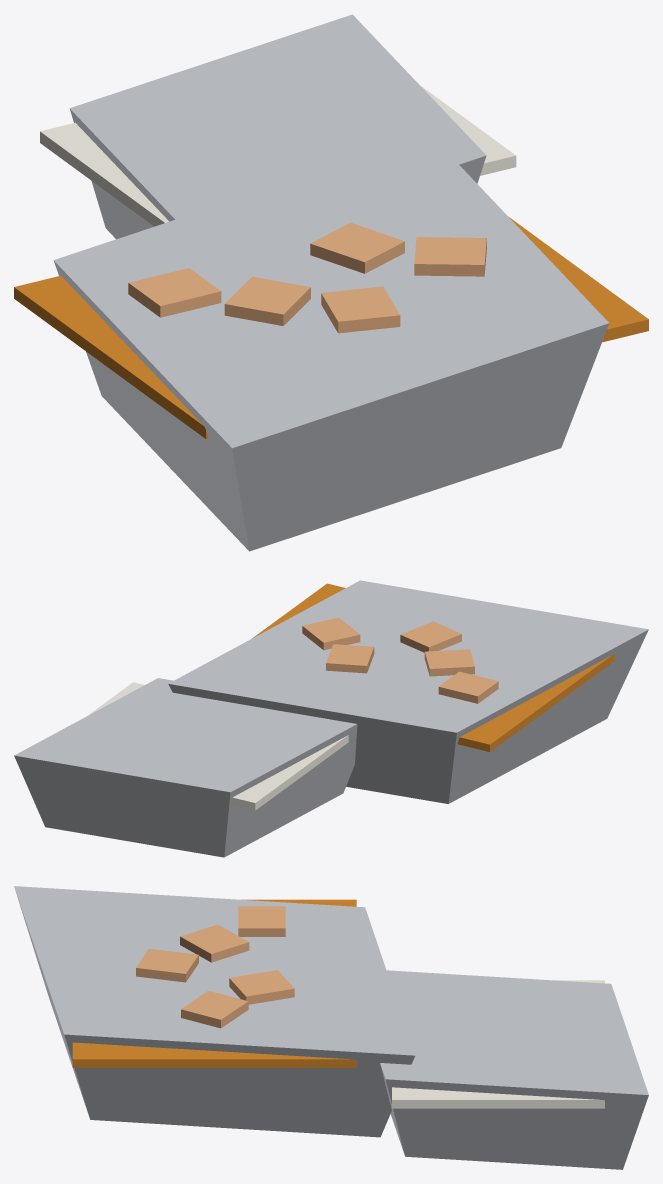
The model's file is curry.glb.
The picture shows the model from 3 angles, top to bottom: view 1: azimuth 30°, elevation 25°; view 2: azimuth 150°, elevation 25°; view 3: azimuth 270°, elevation 25°; orthographic projection. The views are drawn at different scales.
Parts seen in each view (by area): view 1: curry; view 2: curry; view 3: curry.
Part boxes in pixels (x1,y1,x2,y2): curry: (14, 14, 648, 551); curry: (14, 580, 648, 857); curry: (14, 886, 648, 1169).
Bounding box in the file's own units: 0.1985 × 0.049 × 0.2685.
